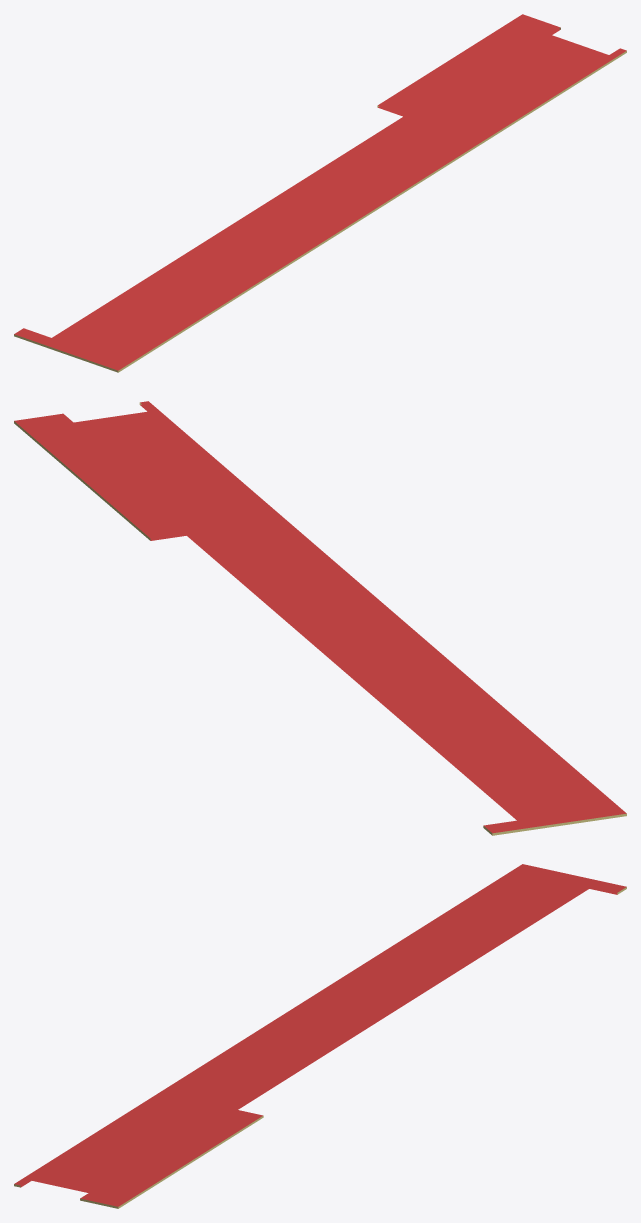
3 views of the same model, one above another, from view 1: azimuth 90°, elevation 25°; view 2: azimuth 150°, elevation 25°; view 3: azimuth 270°, elevation 25° (orthographic). The views are drawn at different scales.
Parts seen in each view (by area): view 1: group_3, group_4; view 2: group_3, group_5, group_4; view 3: group_3, group_5, group_4.
Boxes of the visible parts, x1,y1,x2,y2 form: group_3: (14,14,626,370); group_4: (14,27,626,372); group_3: (14,401,626,833); group_5: (140,404,518,820); group_4: (14,402,626,835); group_3: (14,864,626,1206); group_5: (20,887,617,1192); group_4: (14,887,626,1208).
Bounding box in the file's own units: 35.86 × 26.56 × 0.427.
